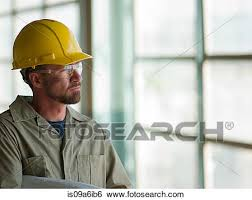Person_wearing_helmet: (5, 16, 98, 80)
